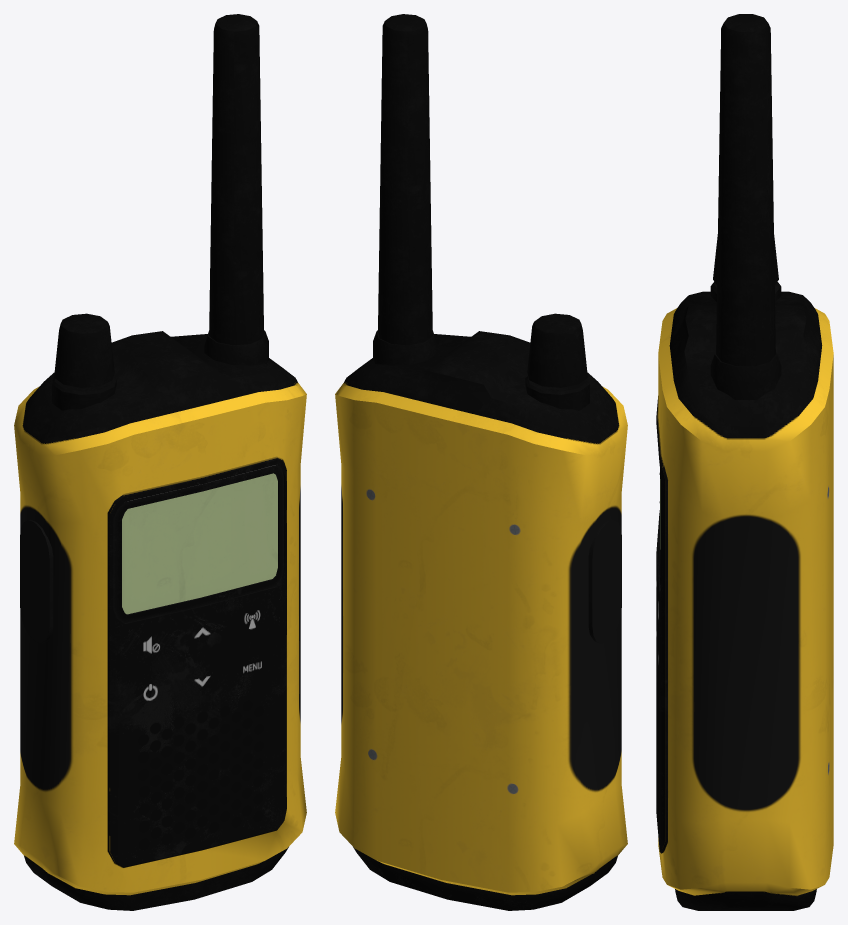
Rendered from WalkieTalkie.fbx.
The picture shows the model from 3 angles, left to right: view 1: azimuth 30°, elevation 25°; view 2: azimuth 150°, elevation 25°; view 3: azimuth 270°, elevation 25°; orthographic projection. The views are drawn at different scales.
Visible parts, largest first — view 1: Walkie_Talkie; view 2: Walkie_Talkie; view 3: Walkie_Talkie.
Boxes of the visible parts, x1,y1,x2,y2 form: Walkie_Talkie: [14, 14, 306, 910]; Walkie_Talkie: [335, 14, 627, 910]; Walkie_Talkie: [656, 14, 833, 910].
Bounding box in the file's own units: 4.8 × 14.68 × 2.65.
Materials: 1 (1 with a texture image).
